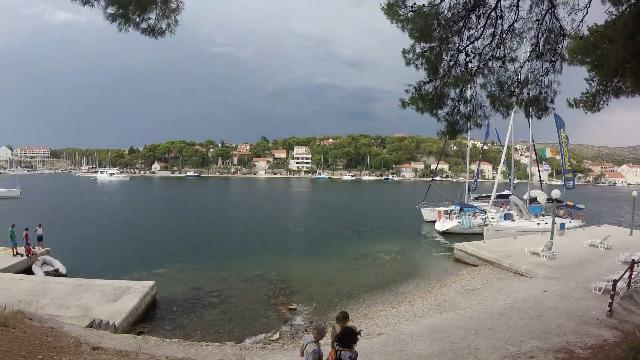ferry: (92, 166, 136, 184)
